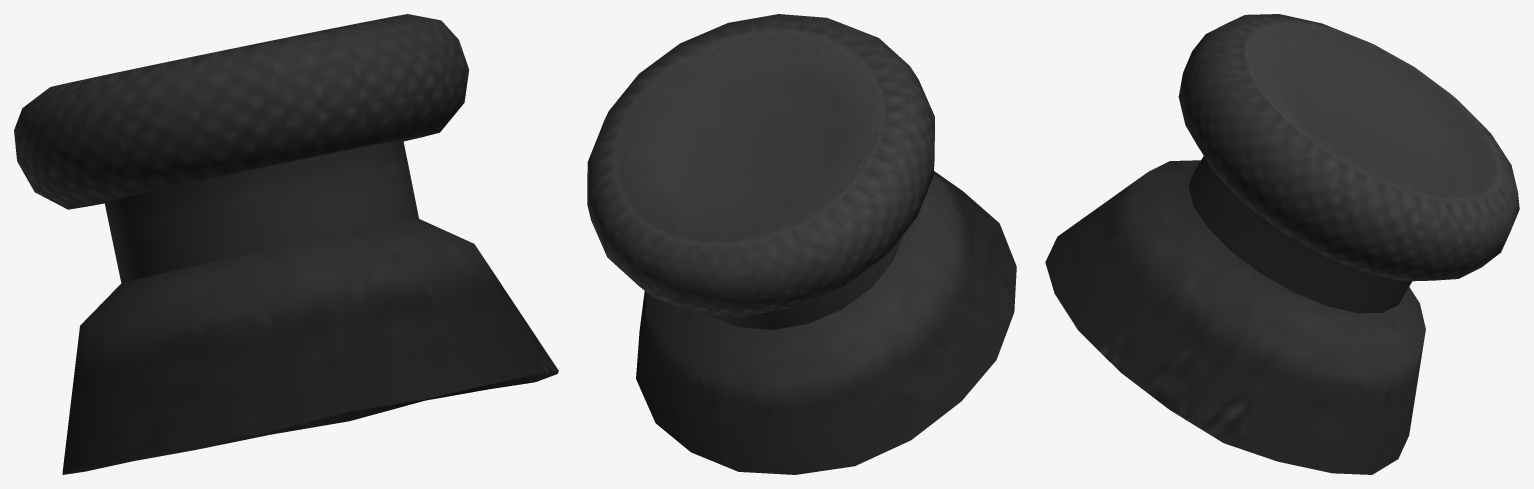
The picture shows the model from 3 angles, left to right: view 1: azimuth 30°, elevation 25°; view 2: azimuth 150°, elevation 25°; view 3: azimuth 270°, elevation 25°; orthographic projection. The views are drawn at different scales.
Bounding box in the file's own units: 0.015 × 0.0159 × 0.0174.
1 material, 1 textured.
